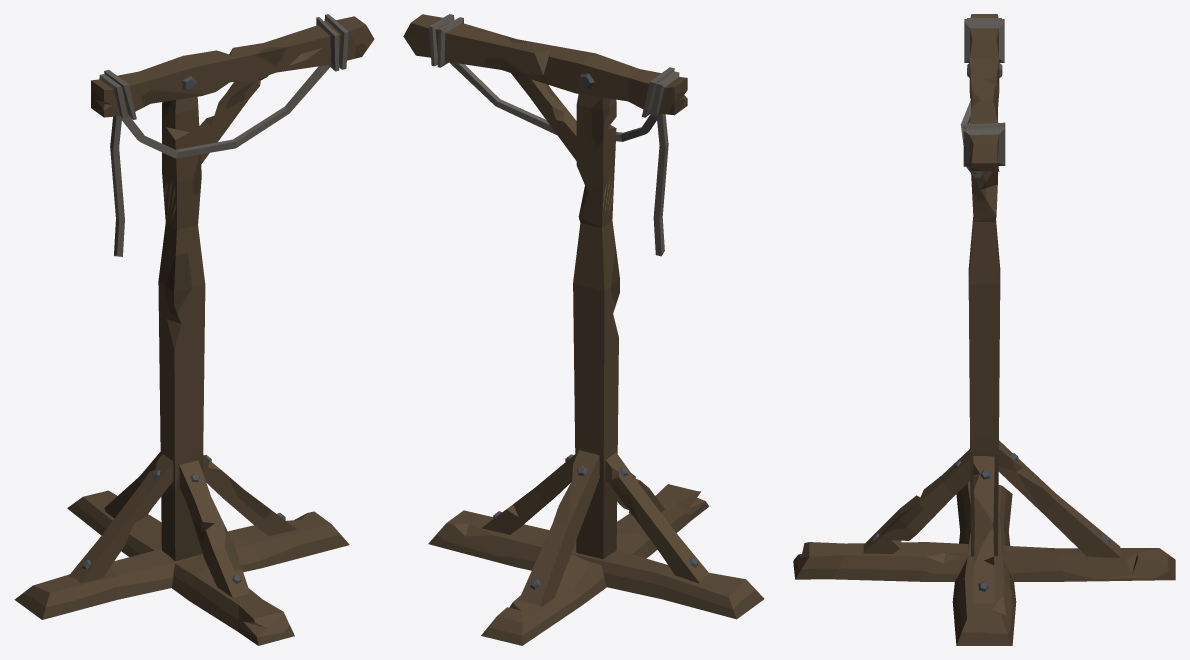
File: crypt_gibbet.gltf
3 renders of one model, left to right at view 1: azimuth 30°, elevation 25°; view 2: azimuth 150°, elevation 25°; view 3: azimuth 270°, elevation 25°, orthographic.
Parts seen in each view (by area): view 1: crypt_gibbet; view 2: crypt_gibbet; view 3: crypt_gibbet.
Part boxes in pixels (box(x1,y1,x2,y2)): crypt_gibbet: box(14, 14, 374, 645); crypt_gibbet: box(403, 14, 764, 645); crypt_gibbet: box(793, 14, 1175, 645).
Bounding box in the file's own units: 3.34 × 4.81 × 3.21.
1 material, 1 textured.
